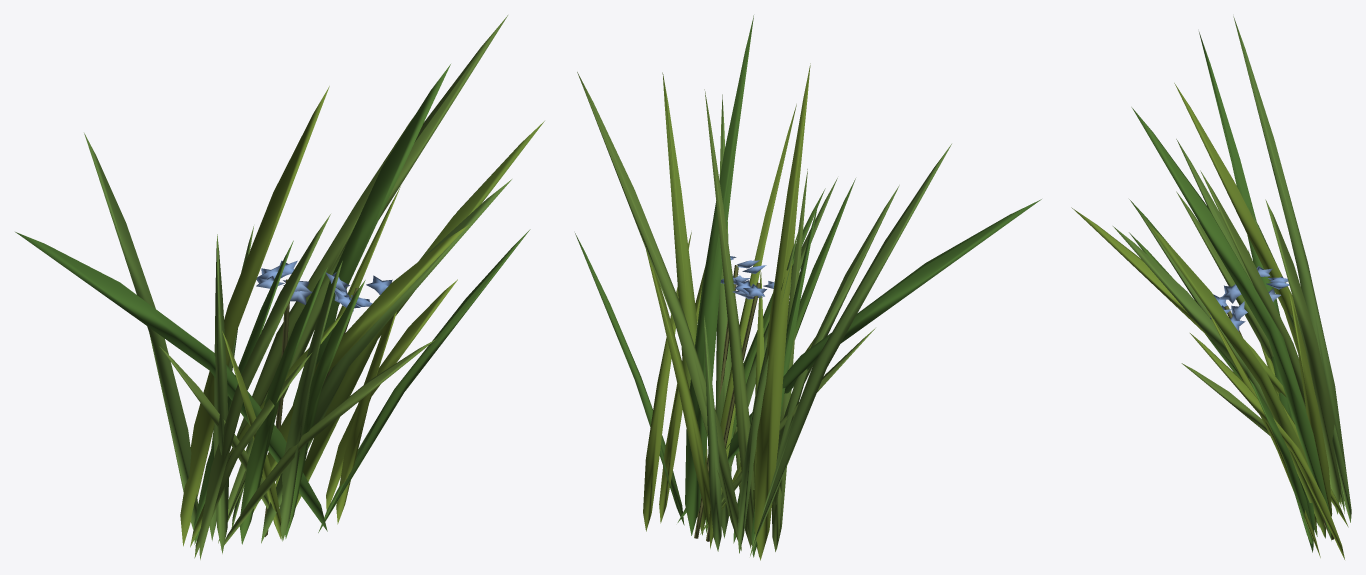
Rendered from walltuft_forgetmenot.glb.
The picture shows the model from 3 angles, left to right: view 1: azimuth 30°, elevation 25°; view 2: azimuth 150°, elevation 25°; view 3: azimuth 270°, elevation 25°; orthographic projection. The views are drawn at different scales.
Visible parts, largest first — view 1: Sammel Pflanze; view 2: Sammel Pflanze, Sammel Putz; view 3: Sammel Pflanze.
Boxes of the visible parts, x1,y1,x2,y2 form: Sammel Pflanze: (15,15,544,559); Sammel Pflanze: (575,15,1041,560); Sammel Putz: (694,265,760,541); Sammel Pflanze: (1071,16,1351,559).
Size of the model in its own units: 0.3795 by 0.3618 by 0.2026.
